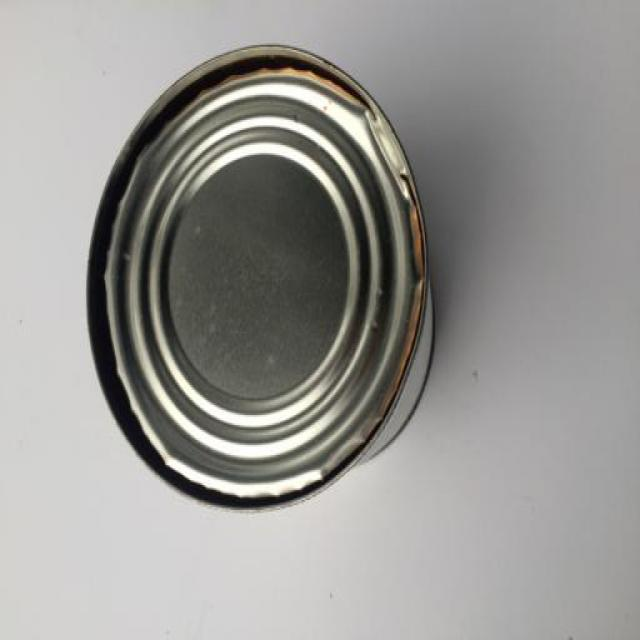metel: (125, 68, 410, 494)
